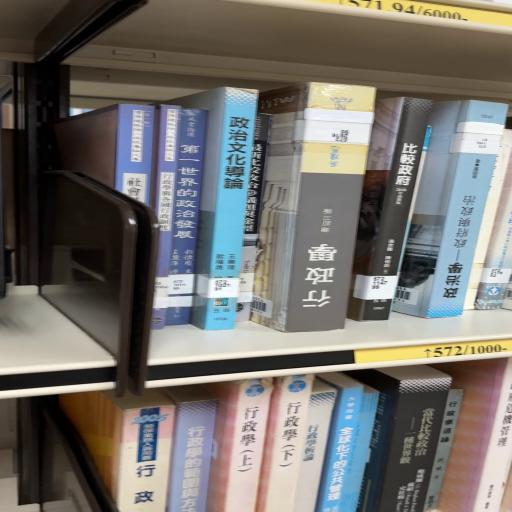reverse: (251, 83, 376, 333), (394, 101, 508, 319)
